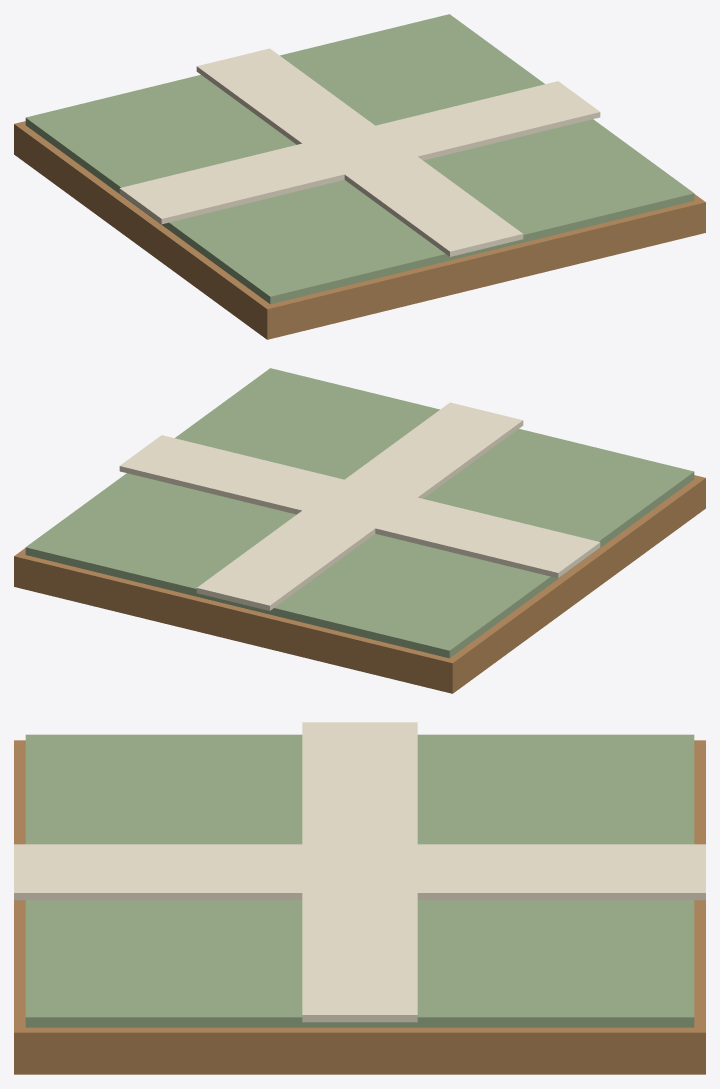
Rendered from tabletop-game-components-crossroads-99d39683__20866.glb.
The picture shows the model from 3 angles, top to bottom: view 1: azimuth 30°, elevation 25°; view 2: azimuth 150°, elevation 25°; view 3: azimuth 270°, elevation 25°; orthographic projection. The views are drawn at different scales.
Visible parts, largest first — view 1: crossroads; view 2: crossroads; view 3: crossroads.
Part boxes in pixels (left/top/right/bottom): crossroads: left=14, top=14, right=705, bottom=339; crossroads: left=14, top=368, right=705, bottom=693; crossroads: left=14, top=722, right=705, bottom=1074.
Size of the model in its own units: 0.06 by 0.0057 by 0.06.
